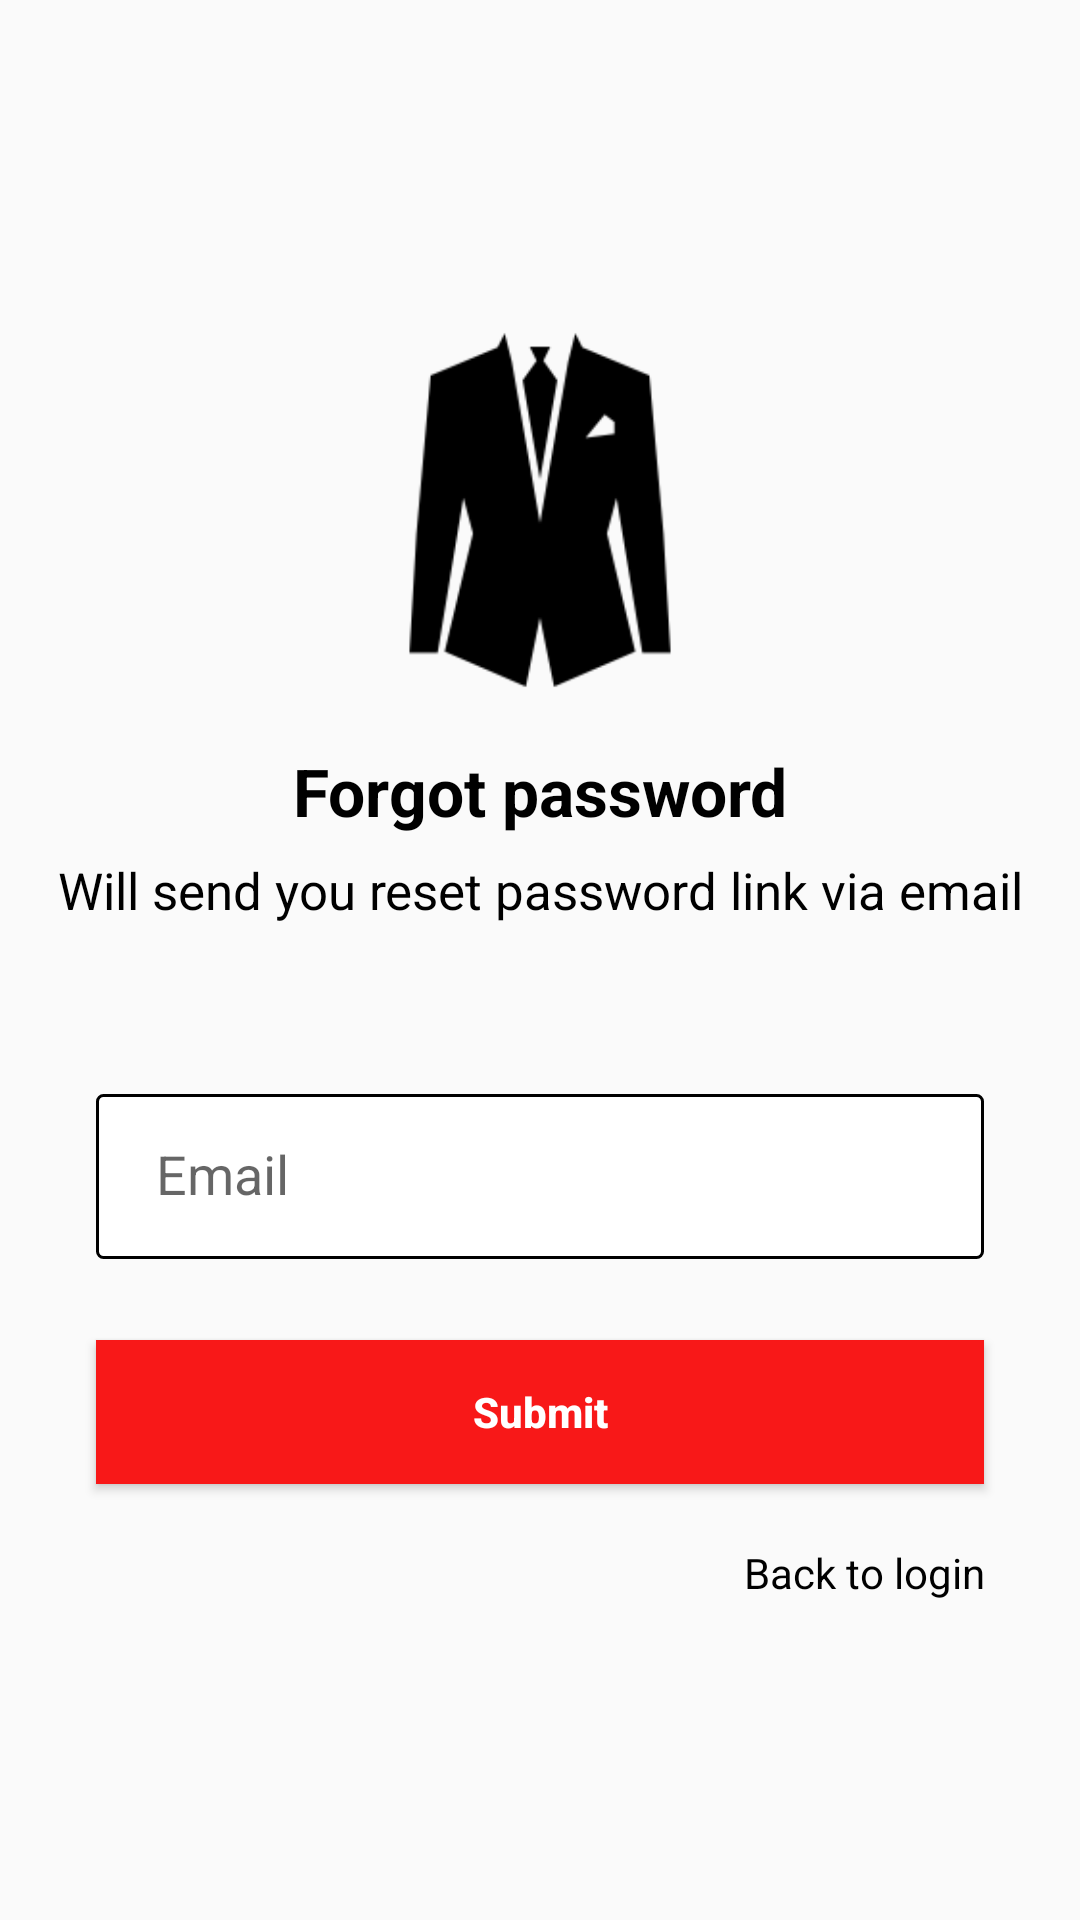

Screen size 1080*1920. Icon name, then its center in pixels as [x,y]:
suit: [540,510]
